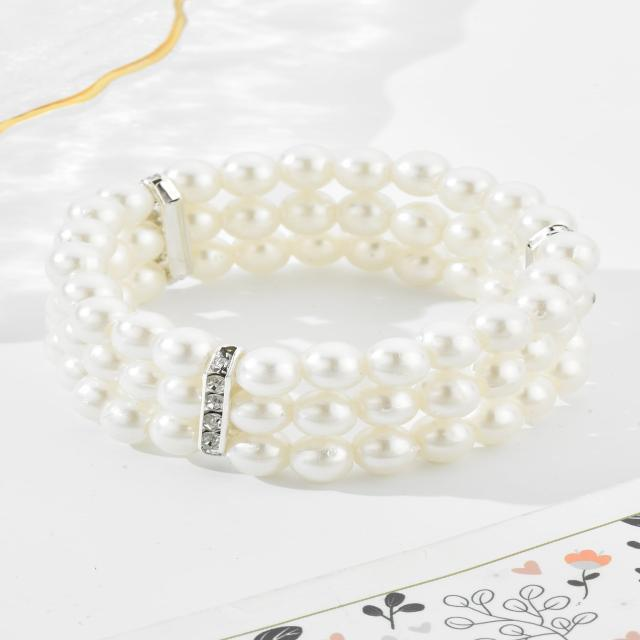bracelet: (35, 115, 640, 512)
